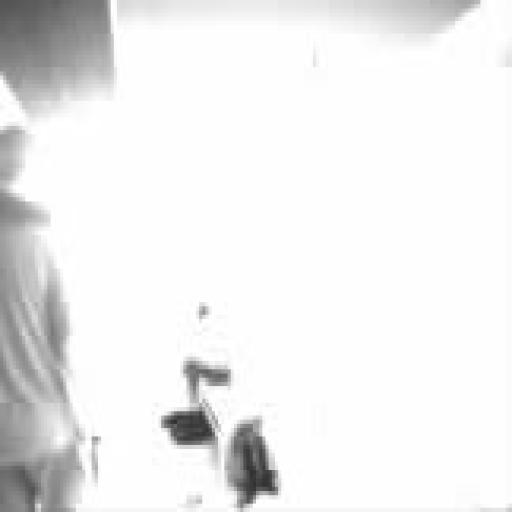human: (0, 126, 85, 511)
